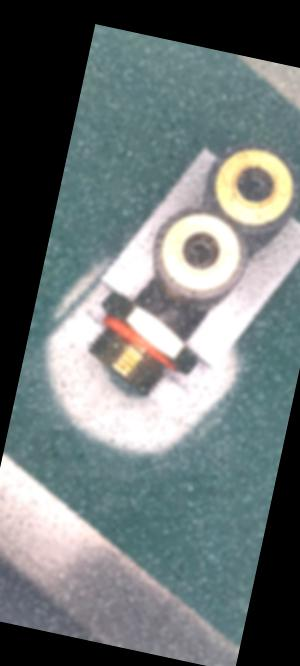craze: (153, 297, 169, 322)
